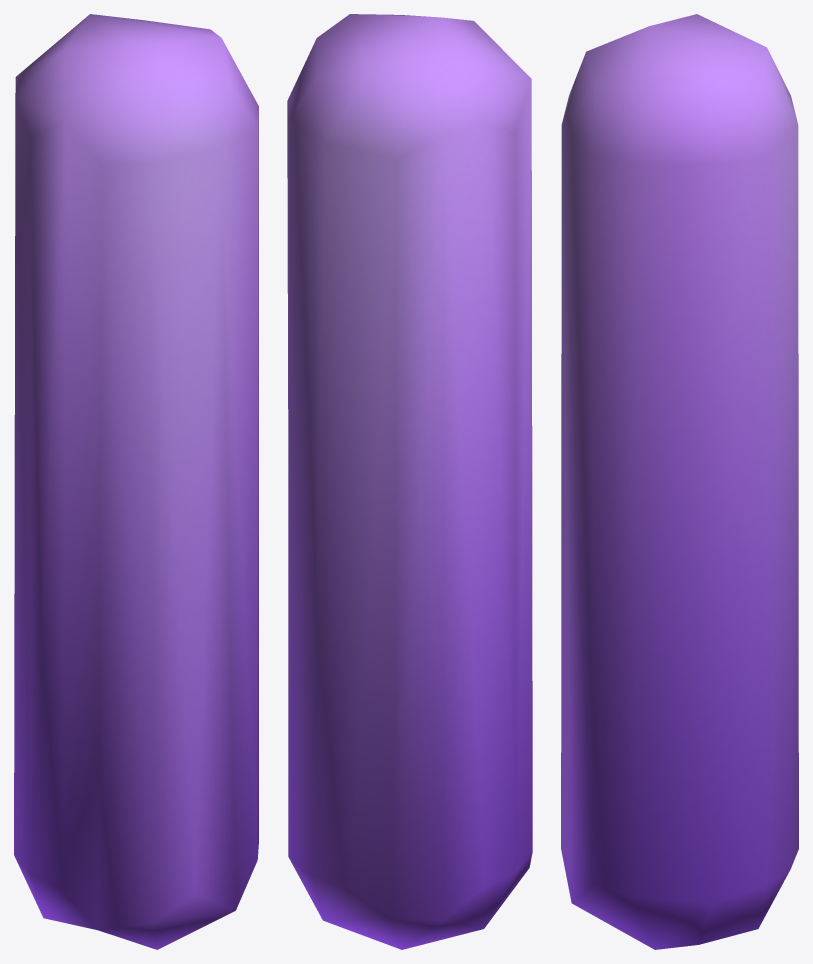
3 renders of one model, left to right at view 1: azimuth 30°, elevation 25°; view 2: azimuth 150°, elevation 25°; view 3: azimuth 270°, elevation 25°, orthographic.
Visible parts, largest first — view 1: Processed_Mesh0_Geometry; view 2: Processed_Mesh0_Geometry; view 3: Processed_Mesh0_Geometry.
Part boxes in pixels (x1=…): Processed_Mesh0_Geometry: x1=14, y1=14, x2=258, y2=949; Processed_Mesh0_Geometry: x1=287, y1=14, x2=532, y2=949; Processed_Mesh0_Geometry: x1=561, y1=14, x2=798, y2=949.
Size of what is drawn, in the model's own units: 0.0196 by 0.0798 by 0.0192.
Materials: 1 (1 with a texture image).
